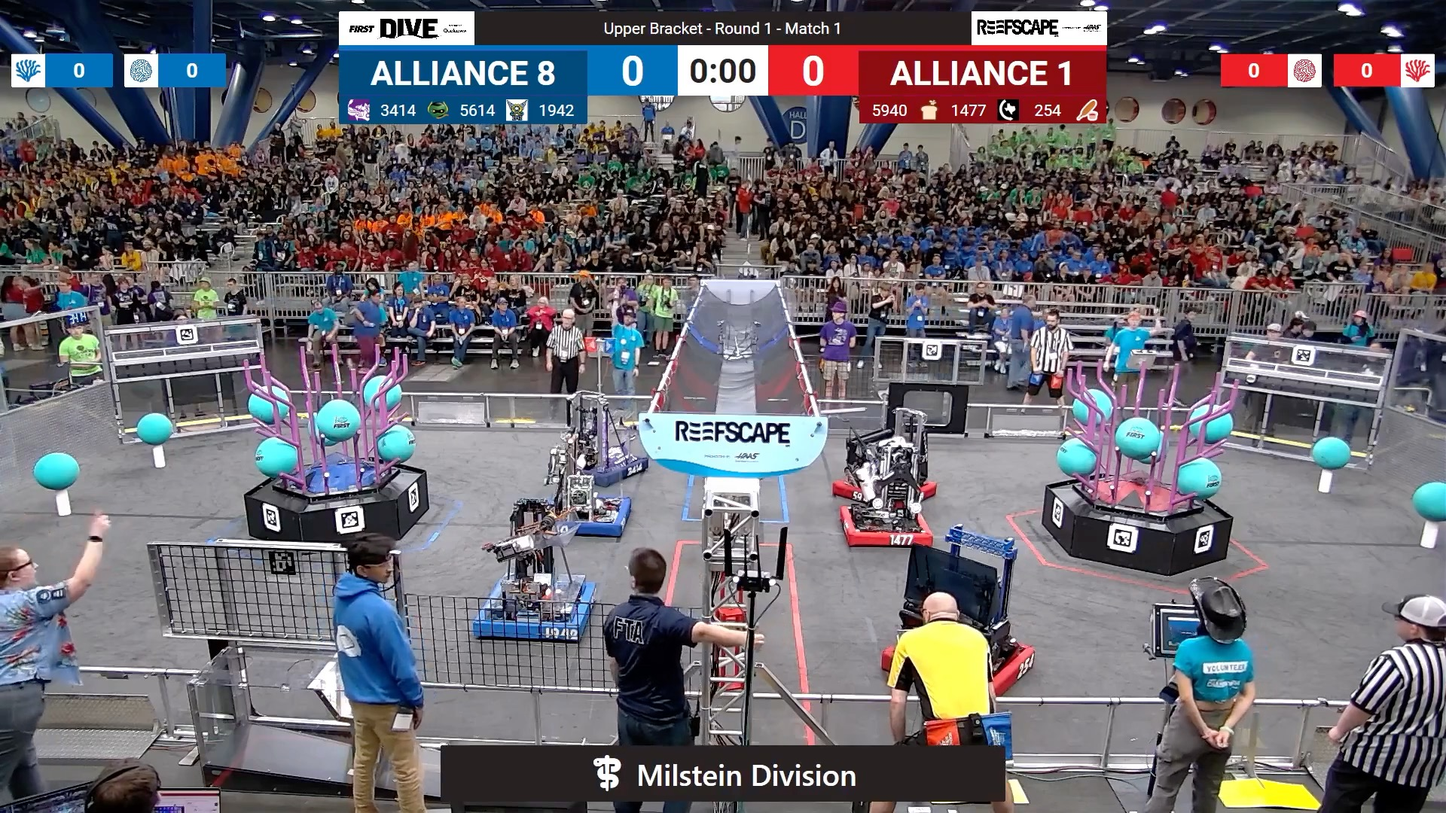bumpers: (870, 626, 1045, 699), (478, 576, 596, 643), (834, 504, 934, 551), (543, 498, 633, 538), (822, 474, 944, 502), (556, 456, 646, 484)
